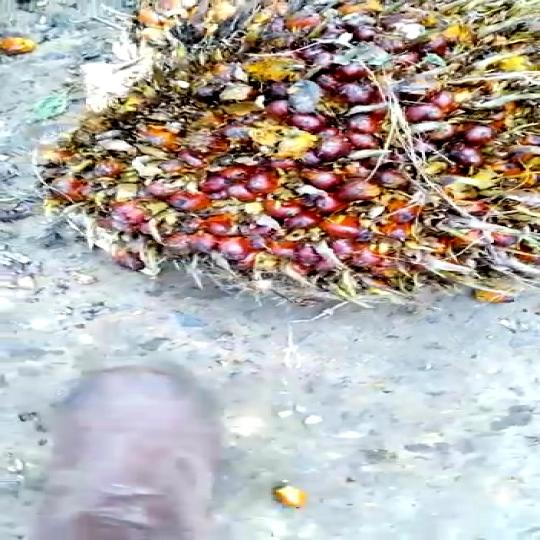masak: (38, 0, 540, 310)
